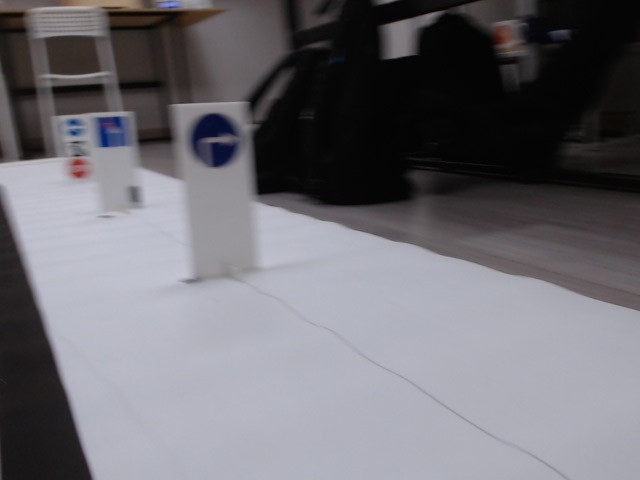Right: (188, 112, 241, 170)
priority_movement: (96, 115, 134, 148)
